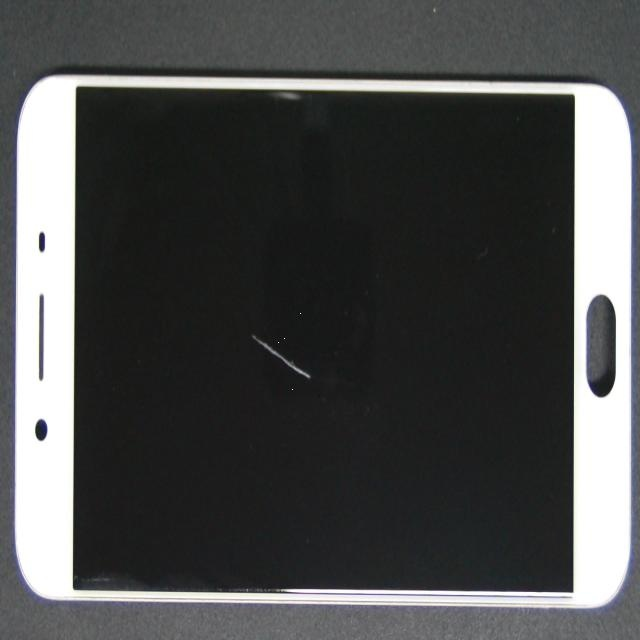scratch: (80, 159, 390, 564)
